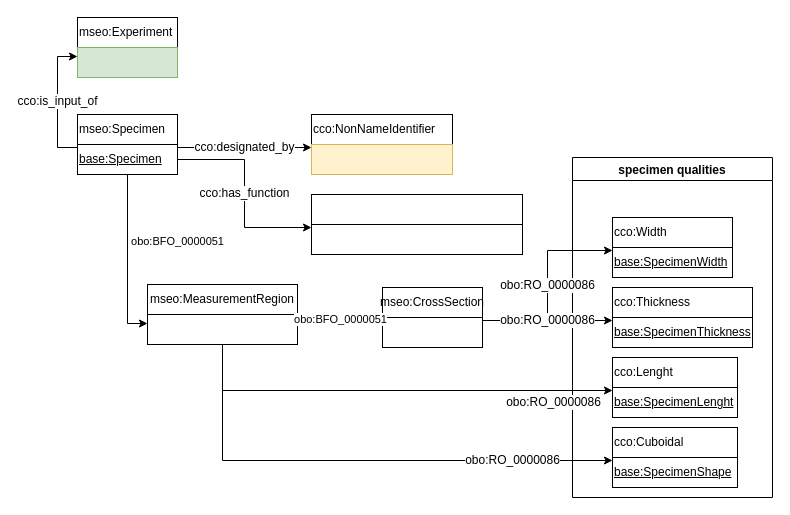
This 790x515 diagram has some shape labels left out. Each missing label, with the centre of its shape:
base:CrossSection: point (432, 332)
base:MeasurementRegion: point (222, 329)
base:SpecimenName: point (381, 159)
base:TensileTestSpecimen: point (416, 239)
base:TensionTest: point (127, 62)
mseo:MeasurementSpecimenFunction: point (416, 209)
